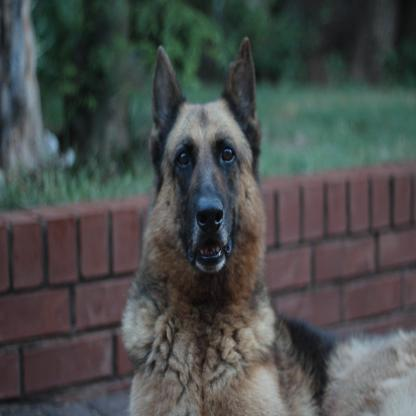dog: (119, 29, 416, 416)
